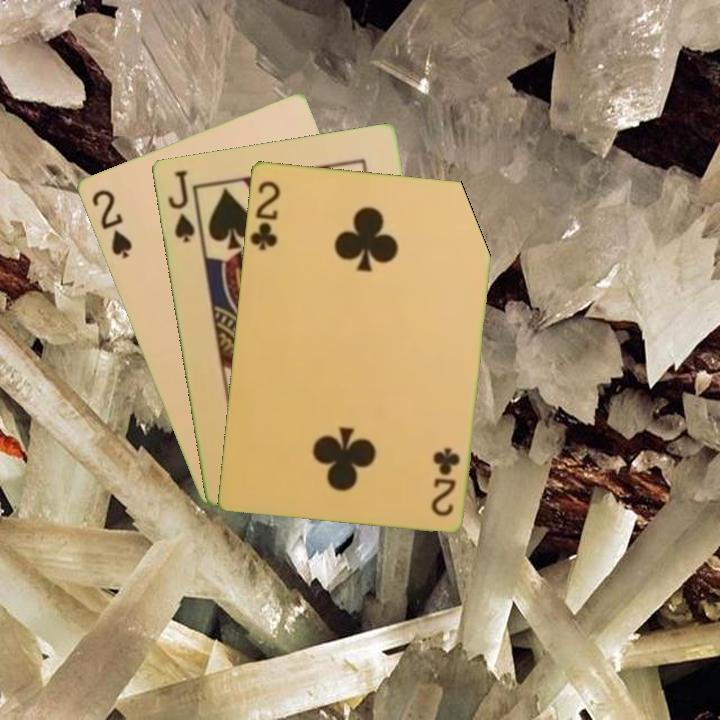2c: (246, 176, 283, 253), (427, 444, 463, 519)
2s: (87, 185, 135, 262)
Js: (164, 166, 198, 246)
